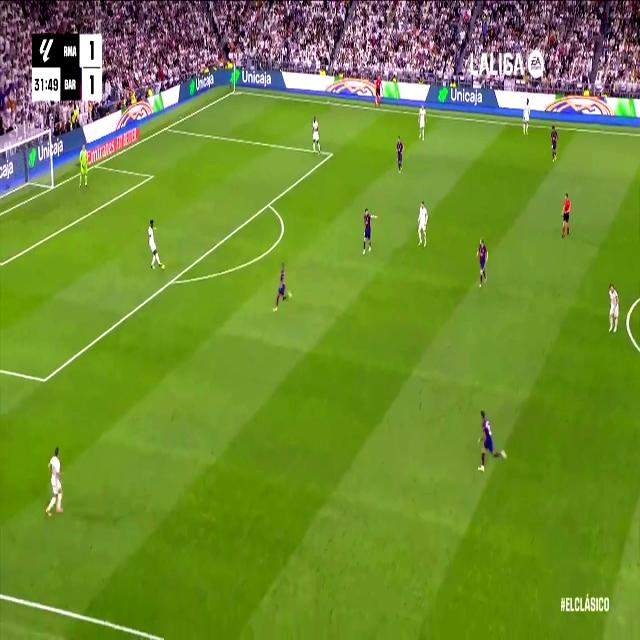bigarea_bottom_inner: (39, 367, 49, 391)
bigarea_top_inner: (328, 146, 334, 160)
bigarea_top_outter: (164, 122, 168, 132)
bottom_arc_area_intersection: (168, 272, 177, 289)
corner: (231, 86, 238, 95)
smallarea_top_inner: (148, 171, 154, 181)
top_arc_area_intersection: (264, 195, 272, 212)
